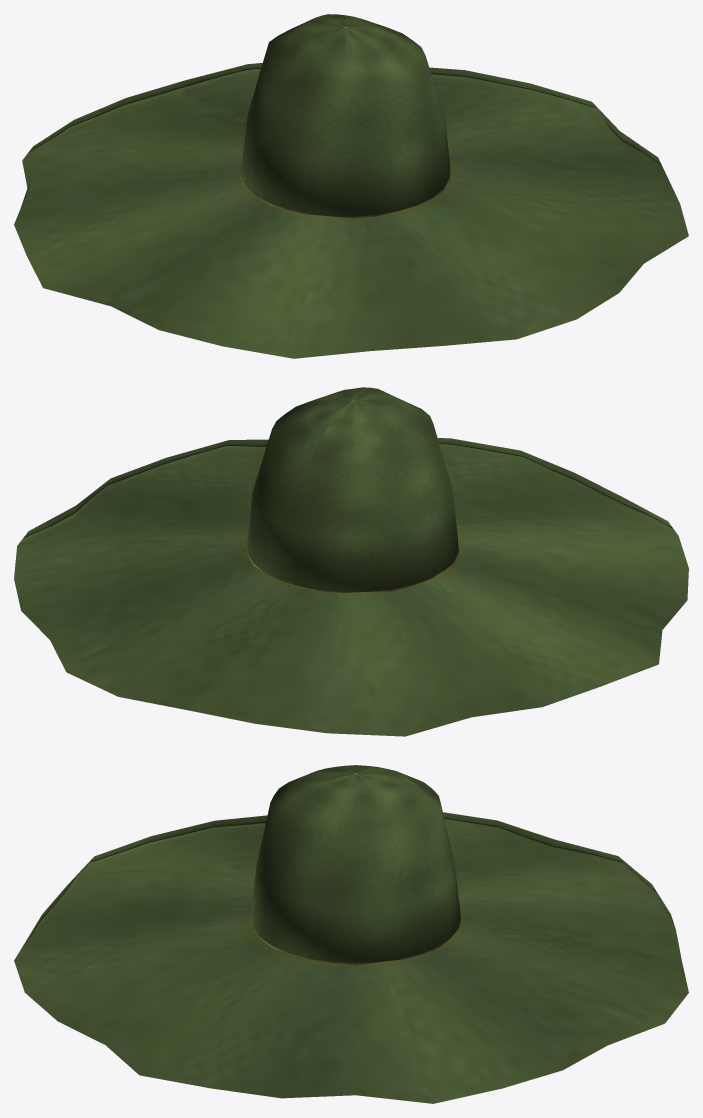
File: moss_wide_head.glb
3 renders of one model, top to bottom at view 1: azimuth 30°, elevation 25°; view 2: azimuth 150°, elevation 25°; view 3: azimuth 270°, elevation 25°, orthographic.
Parts seen in each view (by area): view 1: moss_wide_head; view 2: moss_wide_head; view 3: moss_wide_head.
Boxes of the visible parts, <box> form: moss_wide_head: <box>14,14,688,358</box>; moss_wide_head: <box>14,387,688,736</box>; moss_wide_head: <box>14,765,688,1103</box>.
Bounding box in the file's own units: 0.55 × 0.1647 × 0.5394.
Materials: 1 (1 with a texture image).
